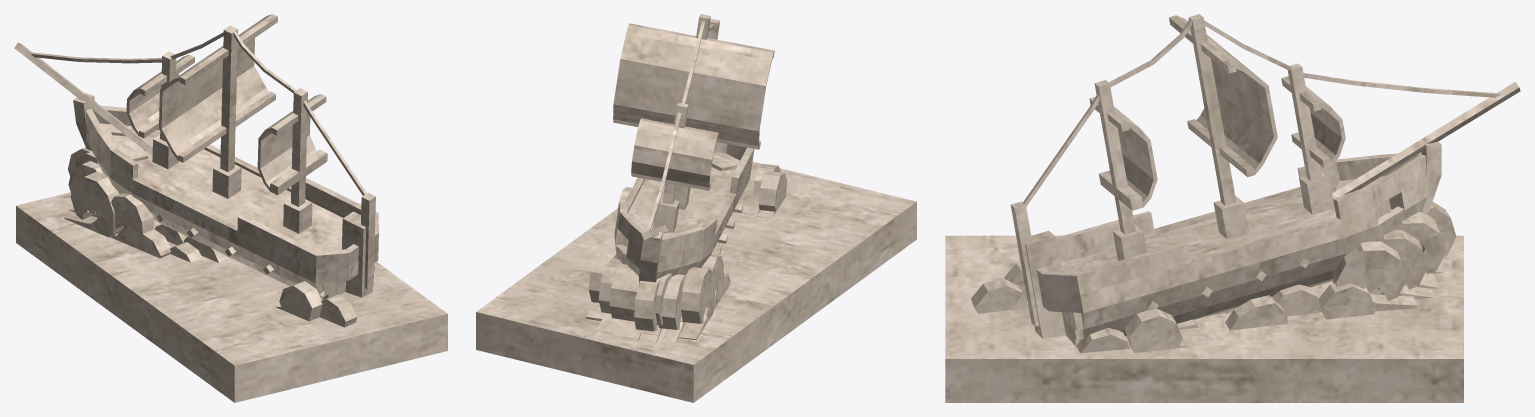
File: ship.obj
The picture shows the model from 3 angles, left to right: view 1: azimuth 30°, elevation 25°; view 2: azimuth 150°, elevation 25°; view 3: azimuth 270°, elevation 25°; orthographic projection. The views are drawn at different scales.
Parts seen in each view (by area): view 1: cube.328, cube.085, cube.078, cube.050, cube.049, cube.091, cube.075, cube.035, cube.092, cube.100, cube.063, cube.113 (+23 smaller); view 2: cube.328, cube.049, cube.048, cube.085, cube.050, cube.053, cube.047, cube.054, cube.056, cube.078, cube.052, cube.090 (+14 smaller); view 3: cube.328, cube.072, cube.085, cube.071, cube.070, cube.091, cube.038, cube.100, cube.049, cube.063, cube.092, cube.050 (+32 smaller).
Boxes of the visible parts, x1,y1,x2,y2 form: cube.328: [16, 192, 447, 402]; cube.085: [136, 149, 342, 246]; cube.078: [132, 177, 315, 283]; cube.050: [159, 66, 266, 151]; cube.049: [159, 38, 254, 129]; cube.091: [220, 25, 237, 171]; cube.075: [132, 194, 322, 293]; cube.035: [237, 214, 319, 269]; cube.092: [291, 88, 307, 206]; cube.100: [14, 42, 152, 155]; cube.063: [342, 211, 372, 297]; cube.113: [361, 192, 375, 289]; cube.328: [476, 161, 916, 402]; cube.049: [613, 59, 766, 131]; cube.048: [620, 34, 771, 85]; cube.085: [616, 167, 735, 246]; cube.050: [613, 104, 759, 146]; cube.053: [634, 128, 715, 159]; cube.047: [626, 25, 773, 61]; cube.054: [632, 145, 712, 175]; cube.056: [631, 161, 710, 187]; cube.078: [712, 164, 751, 250]; cube.052: [638, 120, 717, 143]; cube.090: [652, 197, 679, 232]; cube.328: [945, 235, 1463, 402]; cube.072: [1080, 217, 1343, 312]; cube.085: [1068, 185, 1377, 271]; cube.071: [1081, 238, 1343, 328]; cube.070: [1082, 254, 1344, 339]; cube.091: [1188, 14, 1236, 205]; cube.038: [1077, 241, 1191, 294]; cube.100: [1332, 82, 1520, 202]; cube.049: [1211, 59, 1277, 137]; cube.063: [1025, 230, 1065, 338]; cube.092: [1094, 80, 1135, 234]; cube.050: [1201, 90, 1277, 165].
Bounding box in the file's own units: 1.69 × 2.06 × 3.33.
